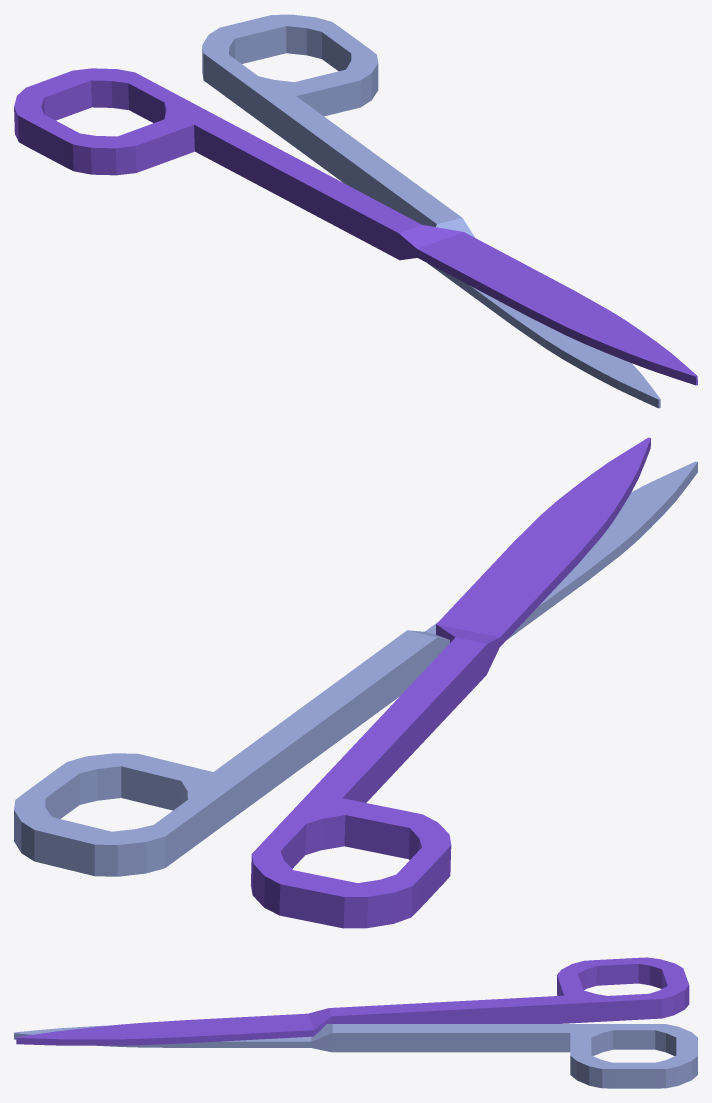
Rendered from Scissors.fbx.
The picture shows the model from 3 angles, top to bottom: view 1: azimuth 30°, elevation 25°; view 2: azimuth 150°, elevation 25°; view 3: azimuth 270°, elevation 25°; orthographic projection. The views are drawn at different scales.
Visible parts, largest first — view 1: Scissors 2, Scissors; view 2: Scissors 2, Scissors; view 3: Scissors 2, Scissors.
Boxes of the visible parts, left/top/right/bottom form: Scissors 2: left=14, top=68, right=697, bottom=385; Scissors: left=202, top=14, right=660, bottom=408; Scissors 2: left=251, top=437, right=650, bottom=928; Scissors: left=14, top=461, right=697, bottom=876; Scissors 2: left=16, top=957, right=689, bottom=1045; Scissors: left=14, top=1024, right=697, bottom=1088.
Size of the model in its own units: 6.95 by 0.6956 by 17.56.
